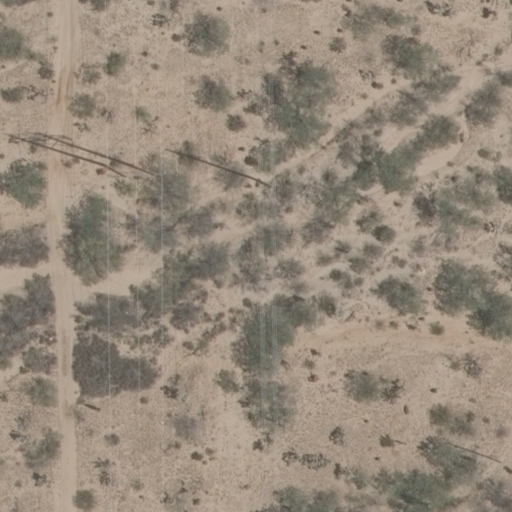DT: (104, 155, 175, 198), (252, 174, 291, 201)
